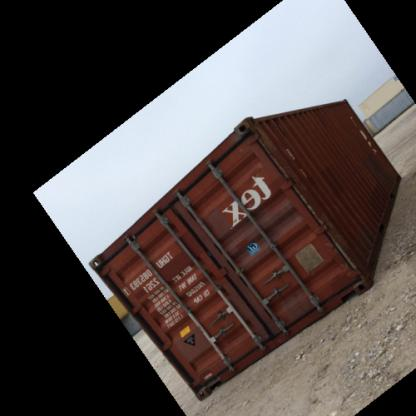Damage: (284, 180, 334, 226), (256, 128, 293, 172), (326, 235, 363, 270)
